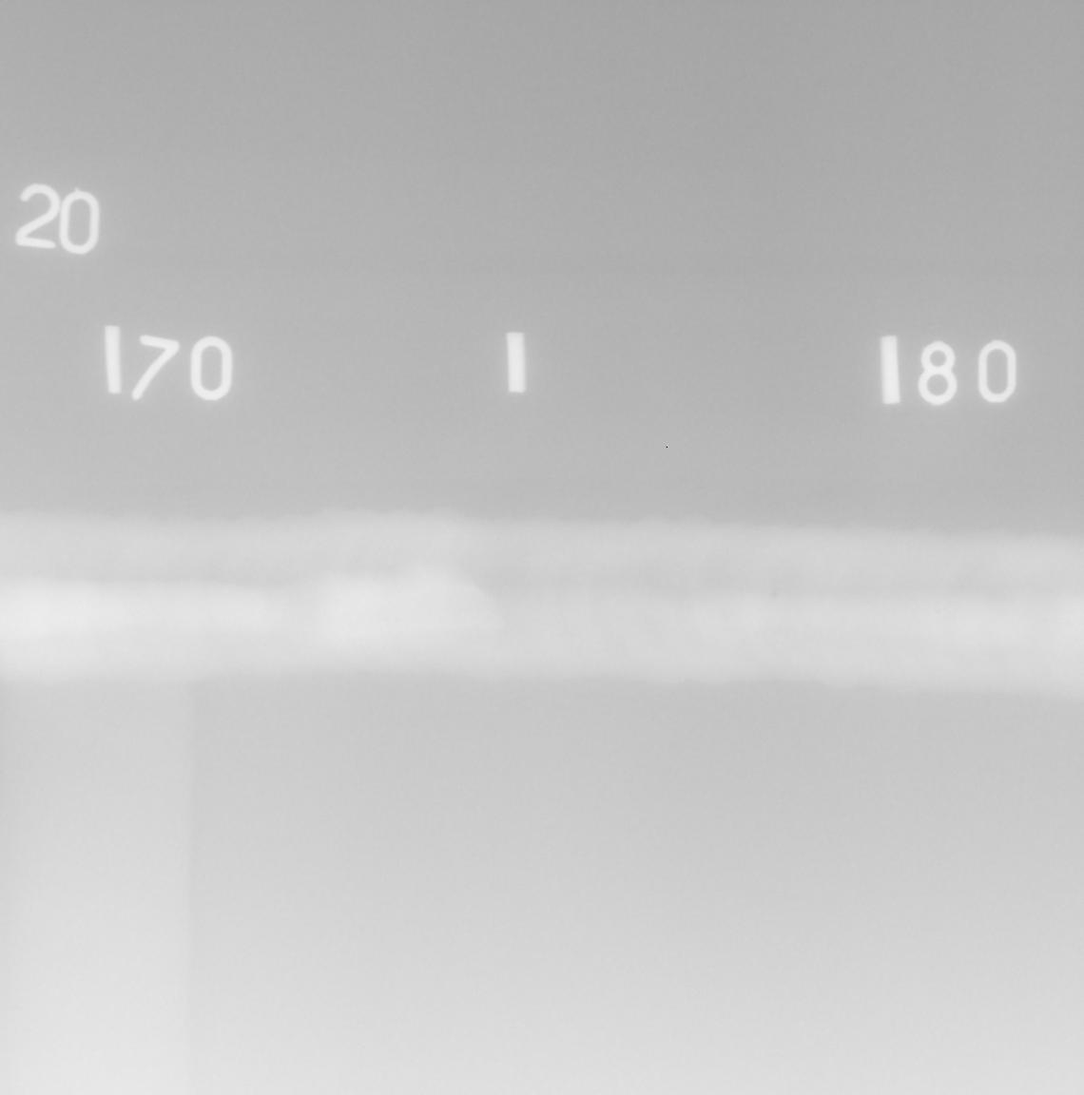Inclusion: (935, 609, 942, 613)
Pore/Porosity: (770, 586, 780, 597)
